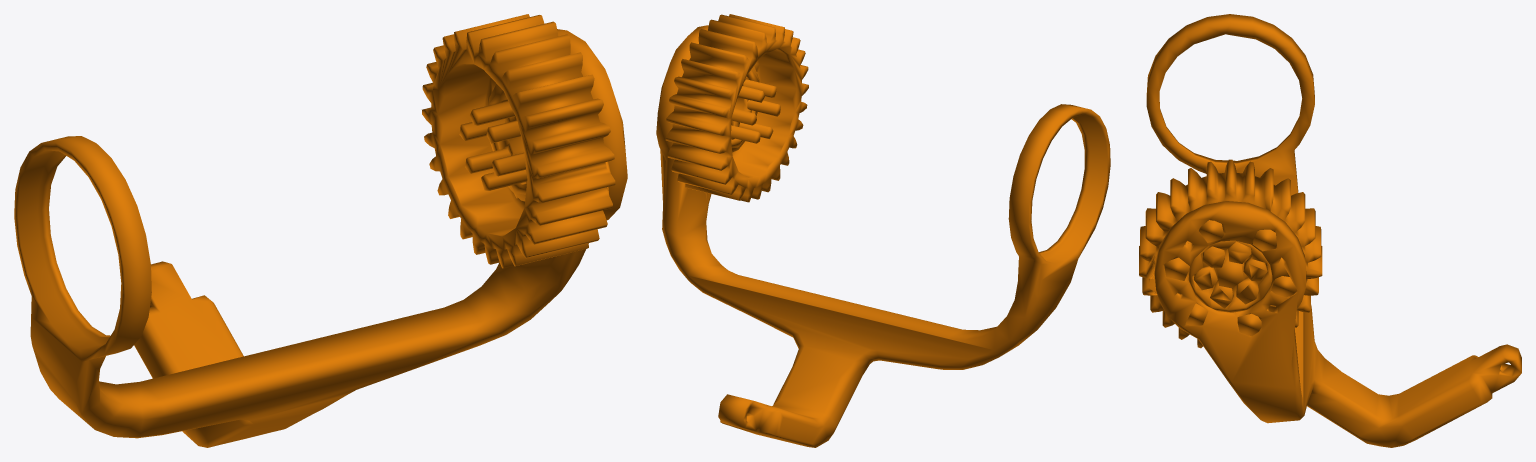
File: gripper_motor_single.glb
The picture shows the model from 3 angles, left to right: view 1: azimuth 30°, elevation 25°; view 2: azimuth 150°, elevation 25°; view 3: azimuth 270°, elevation 25°; orthographic projection. The views are drawn at different scales.
Parts seen in each view (by area): view 1: node; view 2: node; view 3: node.
Part boxes in pixels (<box>): node: <box>14,14,627,447</box>; node: <box>656,14,1110,447</box>; node: <box>1139,14,1521,447</box>.
Bounding box in the file's own units: 0.1056 × 0.086 × 0.0908.
